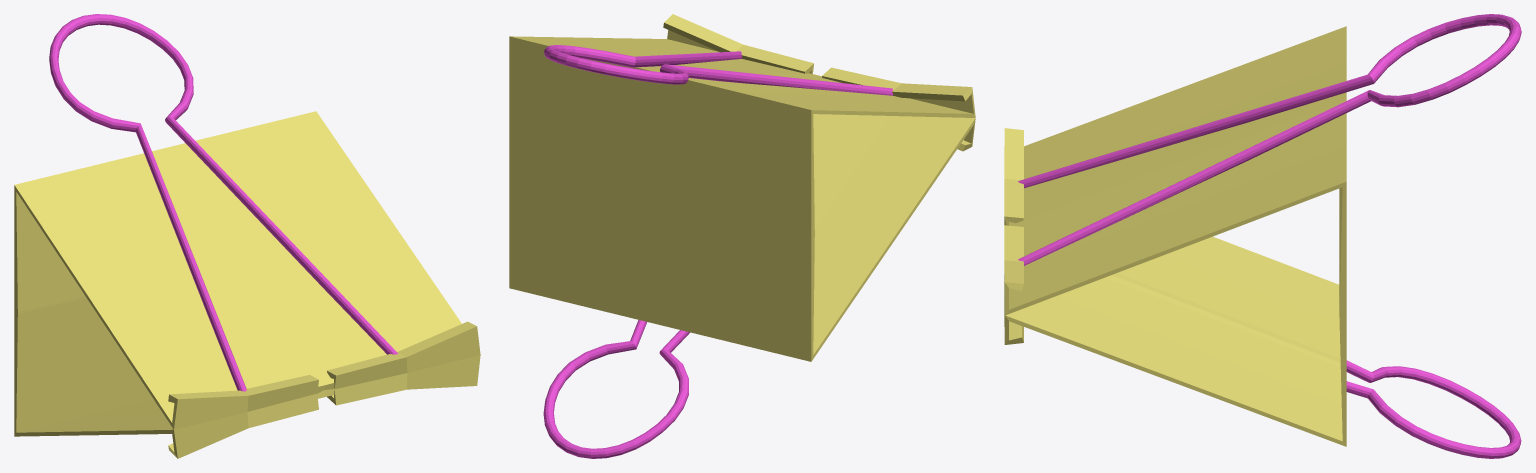
The model's file is Binder.fbx.
3 views of the same model, side by side, from view 1: azimuth 30°, elevation 25°; view 2: azimuth 150°, elevation 25°; view 3: azimuth 270°, elevation 25° (orthographic). The views are drawn at different scales.
Parts seen in each view (by area): view 1: Binder_Clips, Clip_Handle_Top; view 2: Binder_Clips, Clip_Handle_Top, Clip_Handle_Bottom; view 3: Binder_Clips, Clip_Handle_Top, Clip_Handle_Bottom.
Part boxes in pixels (x1,y1,x2,y2): Binder_Clips: [14, 111, 480, 458]; Clip_Handle_Top: [49, 14, 397, 391]; Binder_Clips: [509, 14, 975, 361]; Clip_Handle_Top: [544, 45, 893, 95]; Clip_Handle_Bottom: [543, 320, 689, 458]; Binder_Clips: [1004, 26, 1346, 446]; Clip_Handle_Top: [1018, 14, 1521, 265]; Clip_Handle_Bottom: [1346, 360, 1521, 458].
Size of the model in its own units: 251 by 312 by 348.
